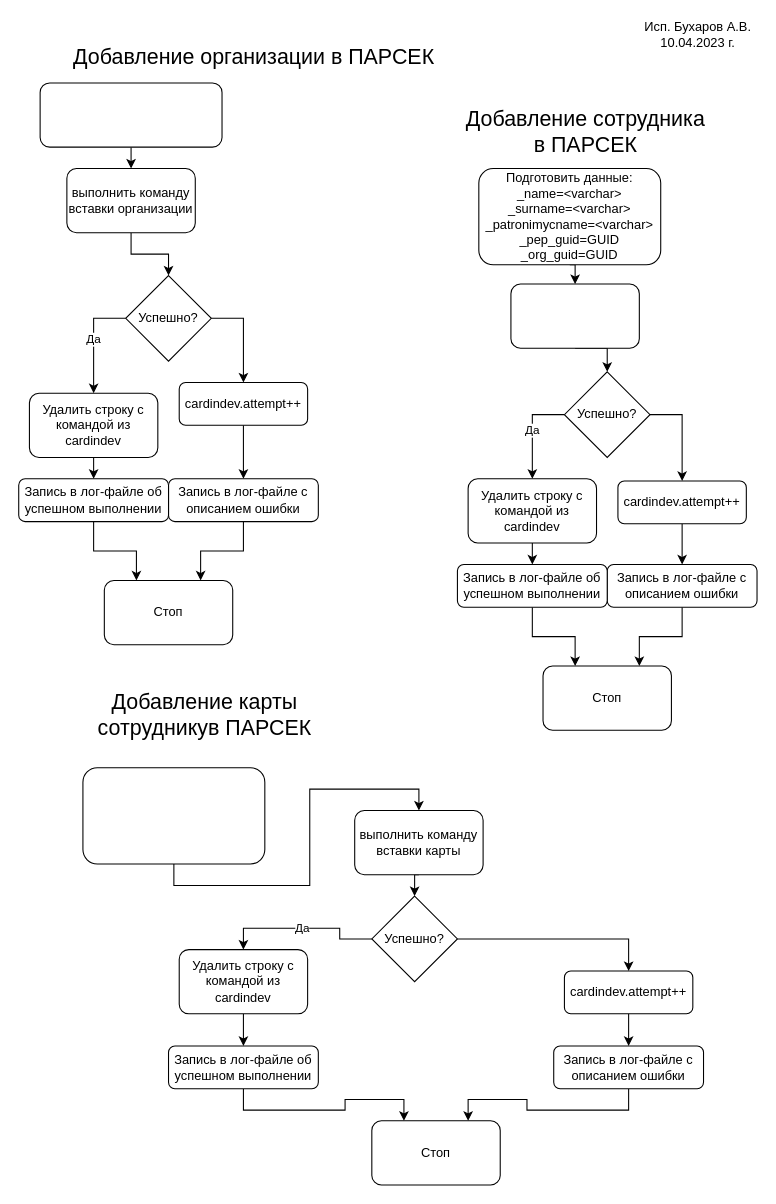
The diagram is 776 pixels wide and 1204 high, and some of its shapes have lost their labels. The box of each missing label's shape, as (x1, y1, x2, y2) in pixels:
выполнить команду вставки сотрудника: (510, 283, 639, 348)
Подготовить данные: _card=<varchar HEX> _pep_guid=GUID _access_guid=GUID: (82, 767, 265, 864)
Подготовить данные: _org_name=<varchar> _org_guid=GUID _parent_guid=GUID: (39, 82, 222, 147)
